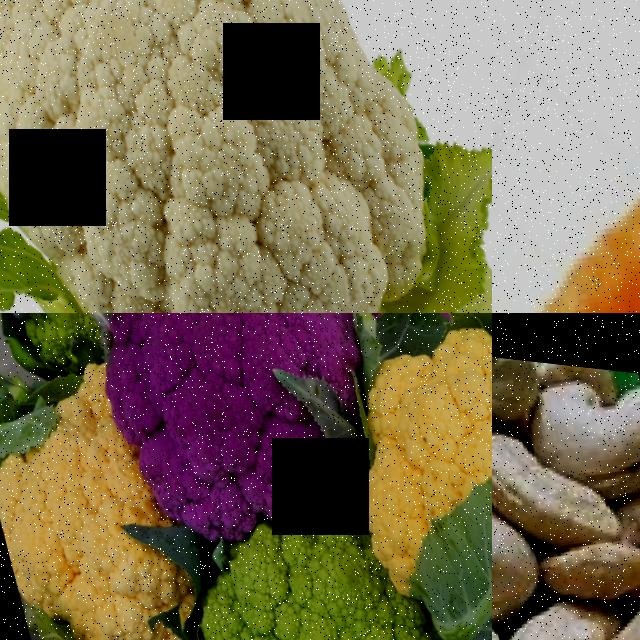carrot: (492, 0, 640, 313)
cauliflower: (0, 0, 492, 313), (78, 313, 382, 521), (182, 466, 492, 640), (0, 350, 168, 640), (373, 313, 492, 640), (0, 313, 127, 358)
